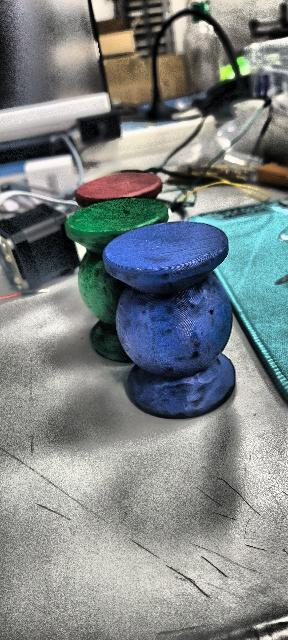blue: (102, 221, 236, 419)
green: (67, 197, 171, 363)
red: (76, 174, 163, 206)
